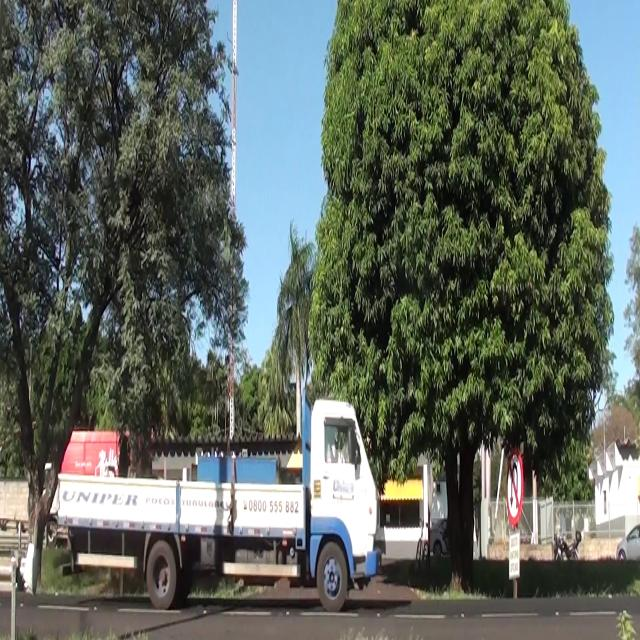-axle: (313, 545, 351, 608), (146, 532, 176, 607)
